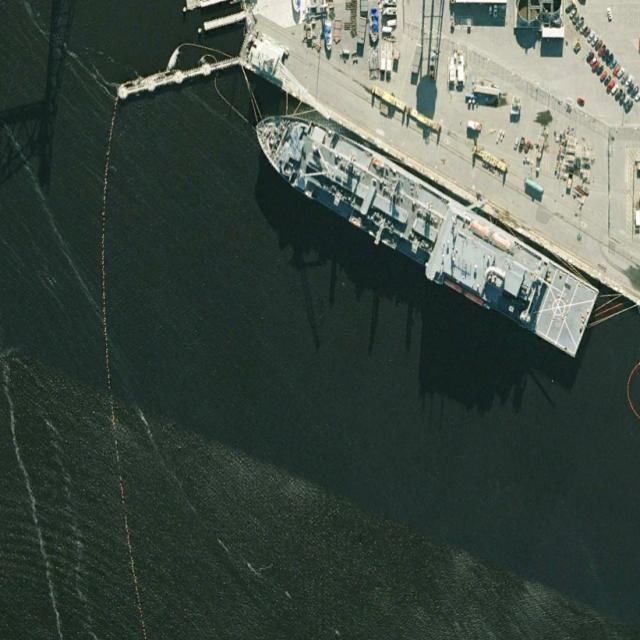Commander: (239, 90, 601, 363)
